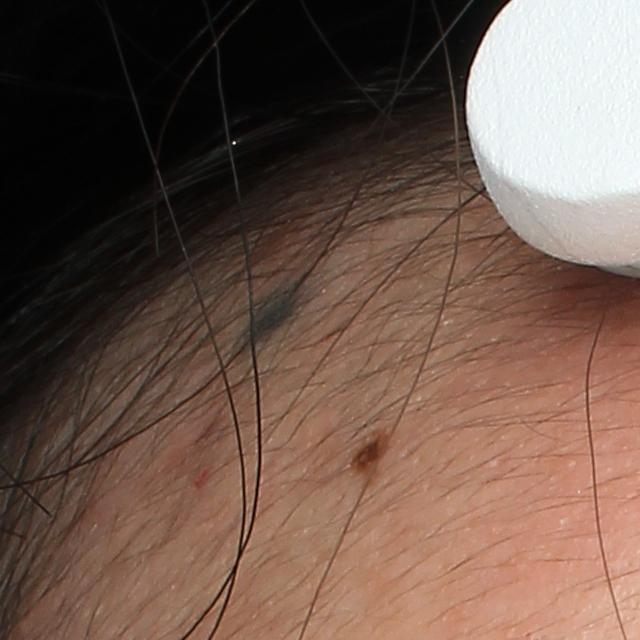nevus: (351, 432, 385, 467)
